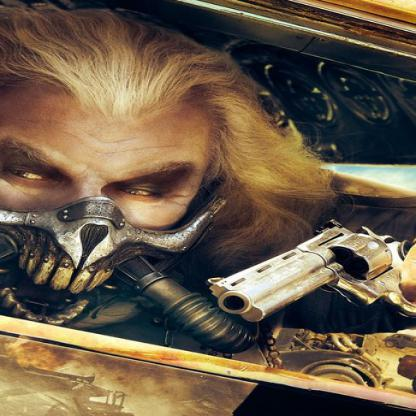gun: (198, 220, 415, 323)
